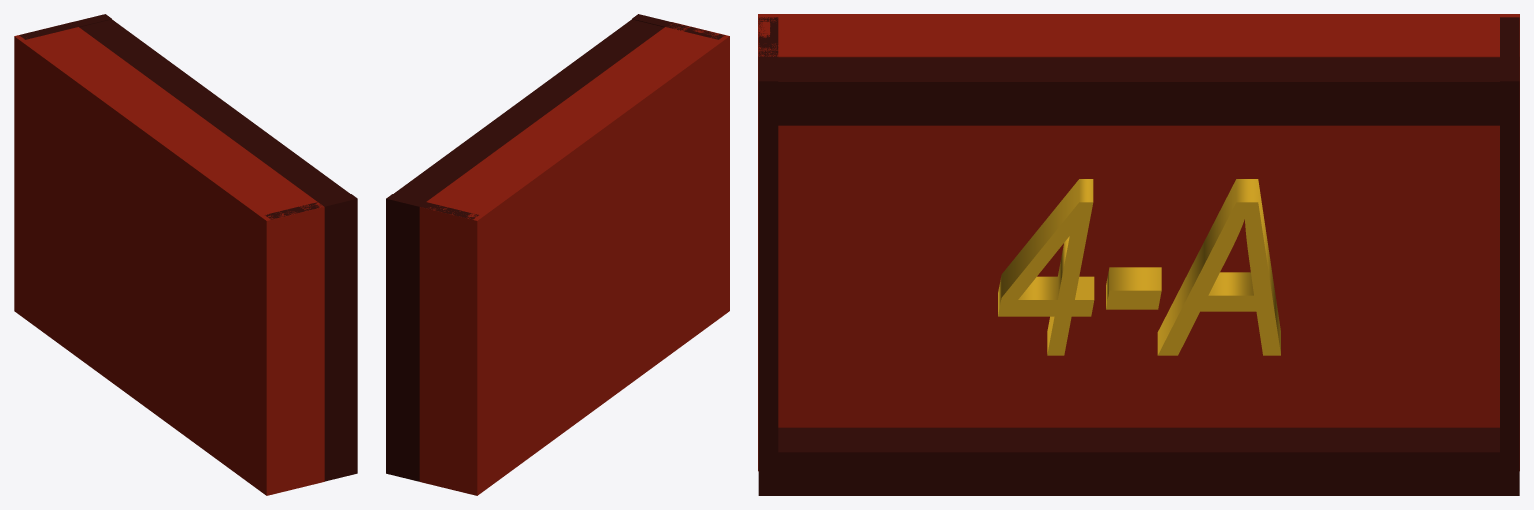
3 renders of one model, left to right at view 1: azimuth 30°, elevation 25°; view 2: azimuth 150°, elevation 25°; view 3: azimuth 270°, elevation 25°, orthographic. The views are drawn at different scales.
Parts seen in each view (by area): view 1: Text; view 2: Text; view 3: Text.
Part boxes in pixels (box(x1,y1,x2,y2)): Text: box(14, 14, 357, 495); Text: box(386, 14, 729, 495); Text: box(758, 14, 1519, 495).
Size of the model in its own units: 69.49 by 200 by 333.
